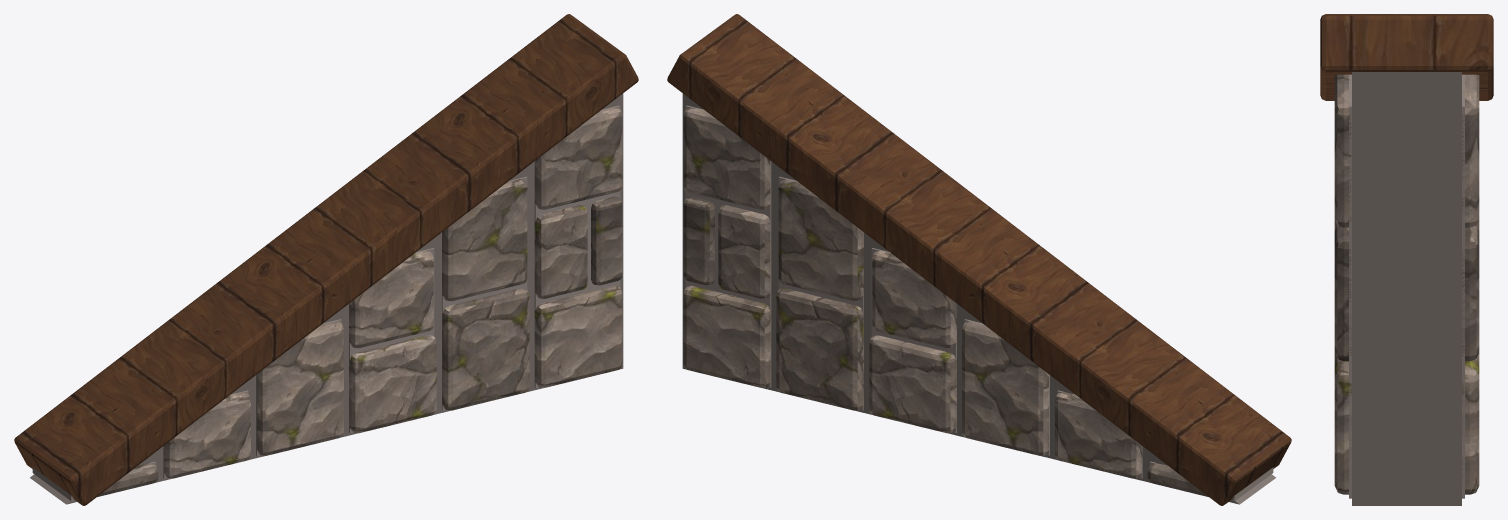
File: gable_26__cut_stone.glb
The picture shows the model from 3 angles, left to right: view 1: azimuth 30°, elevation 25°; view 2: azimuth 150°, elevation 25°; view 3: azimuth 270°, elevation 25°; orthographic projection. The views are drawn at different scales.
Parts seen in each view (by area): view 1: model; view 2: model; view 3: model.
Boxes of the visible parts, x1,y1,x2,y2 form: model: (14,14,638,505); model: (667,14,1291,505); model: (1320,14,1493,505).
Size of the model in its own units: 2.04 by 1.11 by 0.36.
6 materials, 4 textured.
